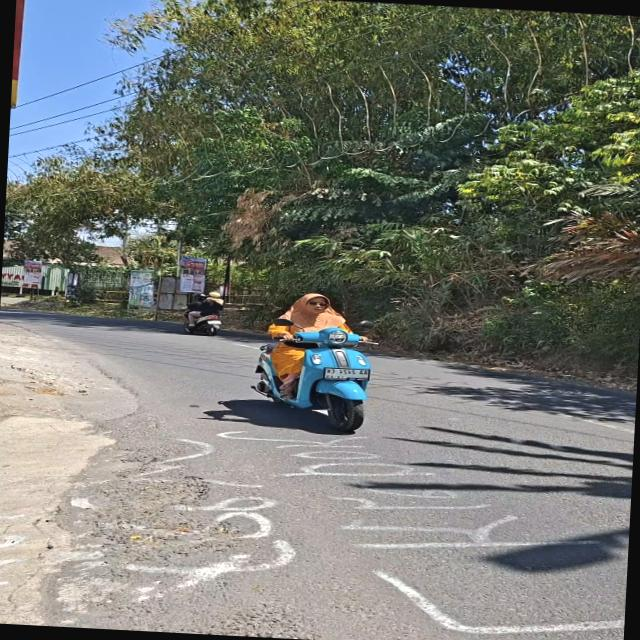WithHelmet: (182, 293, 209, 315)
WithoutHelmet: (263, 291, 372, 404), (187, 290, 225, 330)
